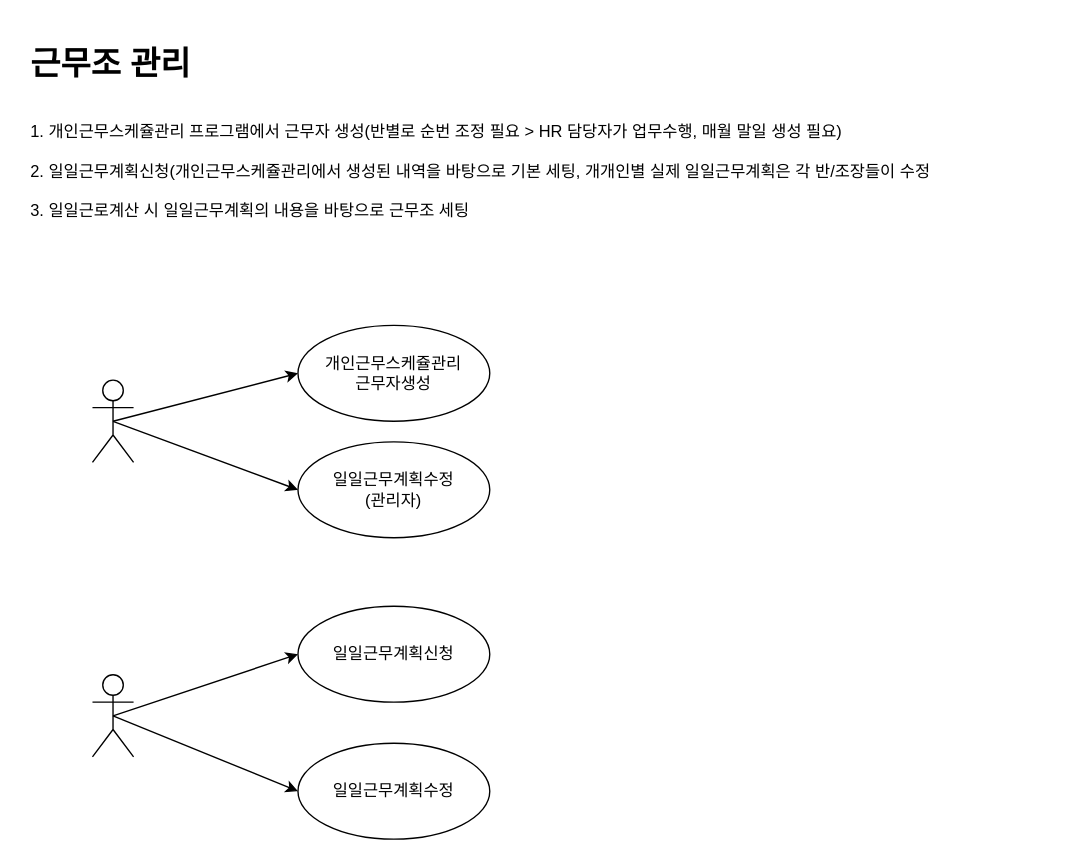
Some shapes in this 1088 by 863 pixel diagram are drawn without their labels. The shapes that lost their labels are listed below. From the top down, each one's centre as x and y in pixels, then its label:
point (112, 420): HR담당자
point (112, 715): 반/조장
